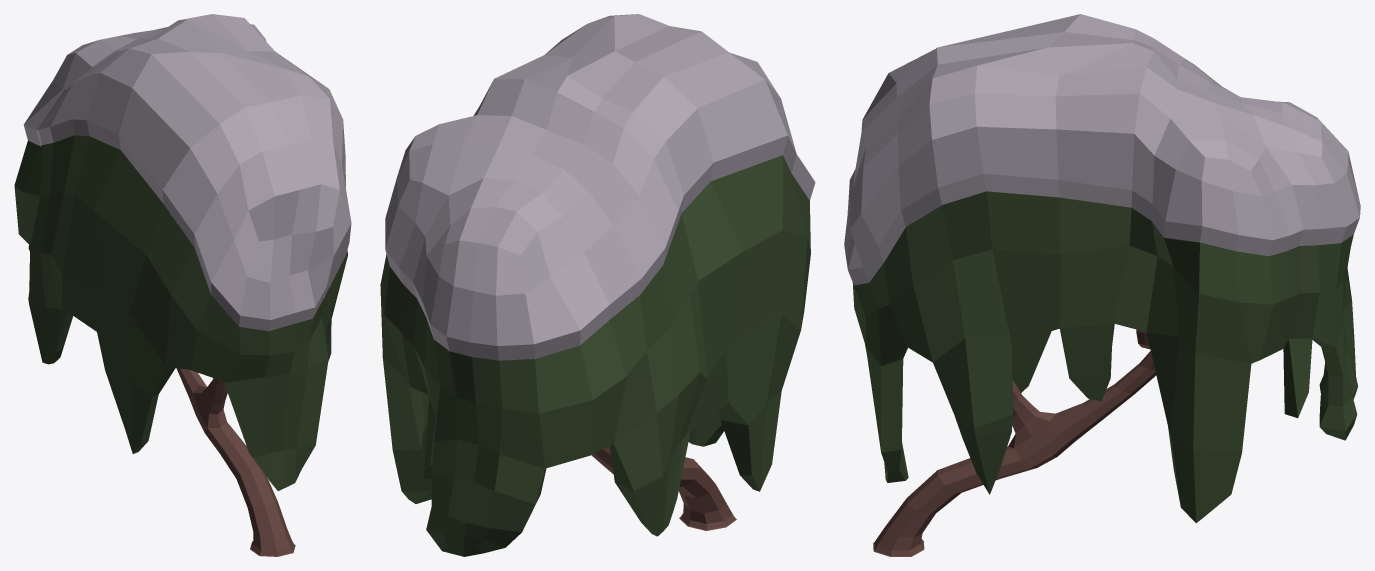
Rendered from Willow_Snow_2-transformed.glb.
3 views of the same model, side by side, from view 1: azimuth 30°, elevation 25°; view 2: azimuth 150°, elevation 25°; view 3: azimuth 270°, elevation 25° (orthographic). The views are drawn at different scales.
Parts seen in each view (by area): view 1: Willow_Snow_2; view 2: Willow_Snow_2; view 3: Willow_Snow_2.
Boxes of the visible parts, x1=… form: Willow_Snow_2: x1=14, y1=14, x2=351, y2=556; Willow_Snow_2: x1=380, y1=14, x2=815, y2=556; Willow_Snow_2: x1=844, y1=14, x2=1360, y2=556.
Bounding box in the file's own units: 1.95 × 3.46 × 3.16.
